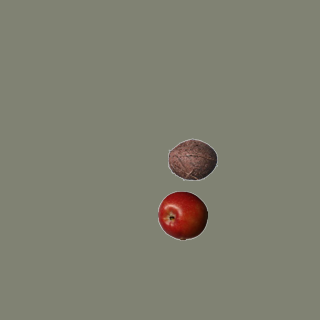Apple Braeburn: (157, 190, 207, 240)
Cocos: (167, 134, 217, 184)
